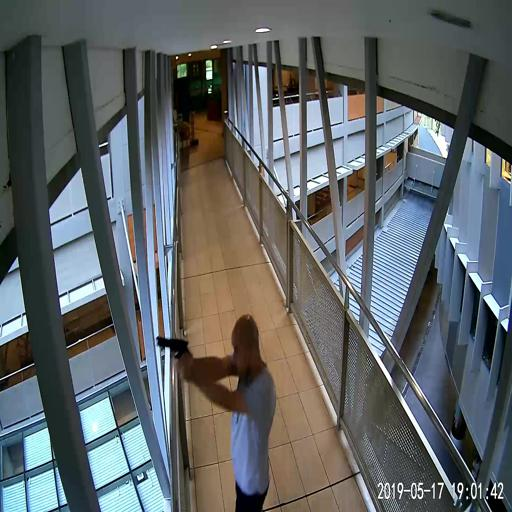pistol: (156, 335, 190, 374)
